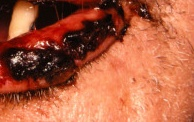SJS-TEN: (0, 0, 175, 119)
